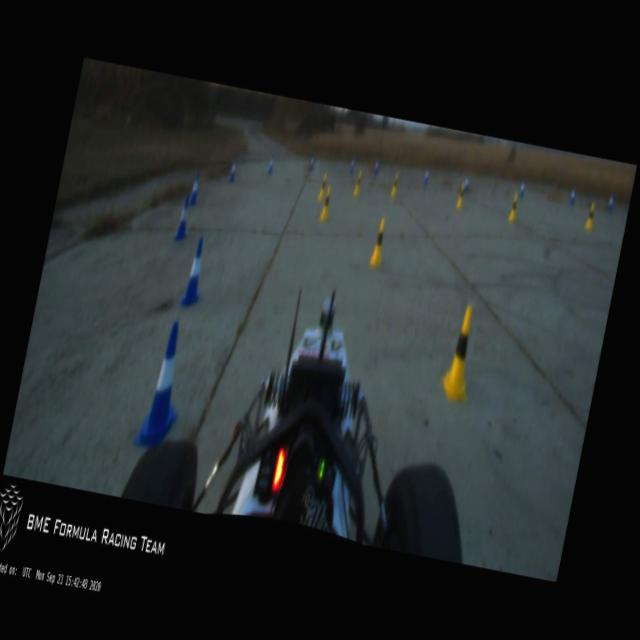blue_cone: (134, 318, 195, 451), (177, 235, 211, 309), (174, 193, 194, 240), (188, 174, 202, 206), (229, 158, 238, 182), (568, 186, 578, 206), (606, 192, 616, 212), (423, 166, 431, 186), (462, 176, 471, 193), (268, 155, 276, 174), (519, 180, 526, 197), (374, 158, 381, 174), (310, 154, 316, 170), (350, 158, 356, 173)
yellow_cone: (438, 304, 484, 404), (368, 218, 389, 268), (320, 186, 334, 220), (584, 202, 597, 232), (508, 194, 521, 223), (317, 173, 329, 201), (455, 182, 466, 210), (390, 172, 400, 198), (353, 172, 363, 197)
